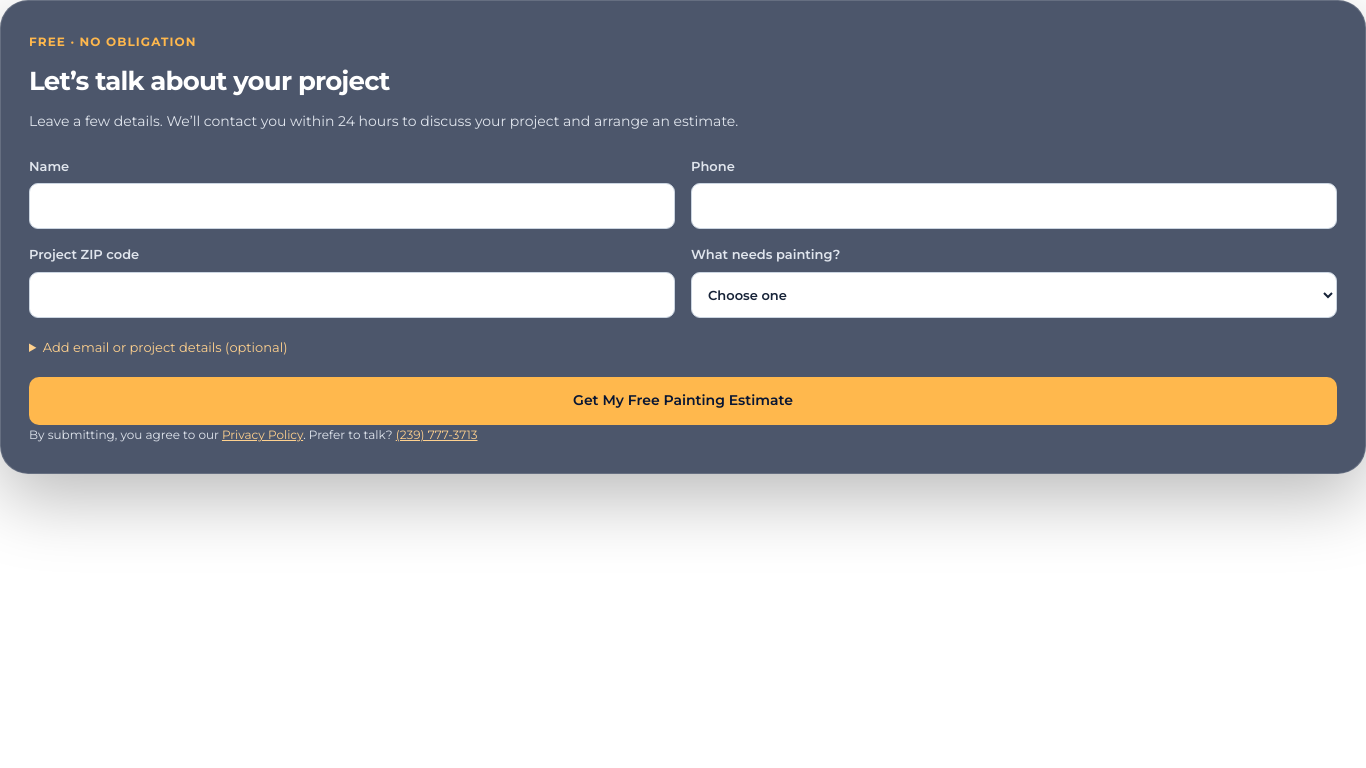
Test: retains entries on failure, displays error, and allows retry
This screenshot has width=1366, height=768.
In the field labelled "Name": (352, 206) [29,183,675,229], type "Test Customer"
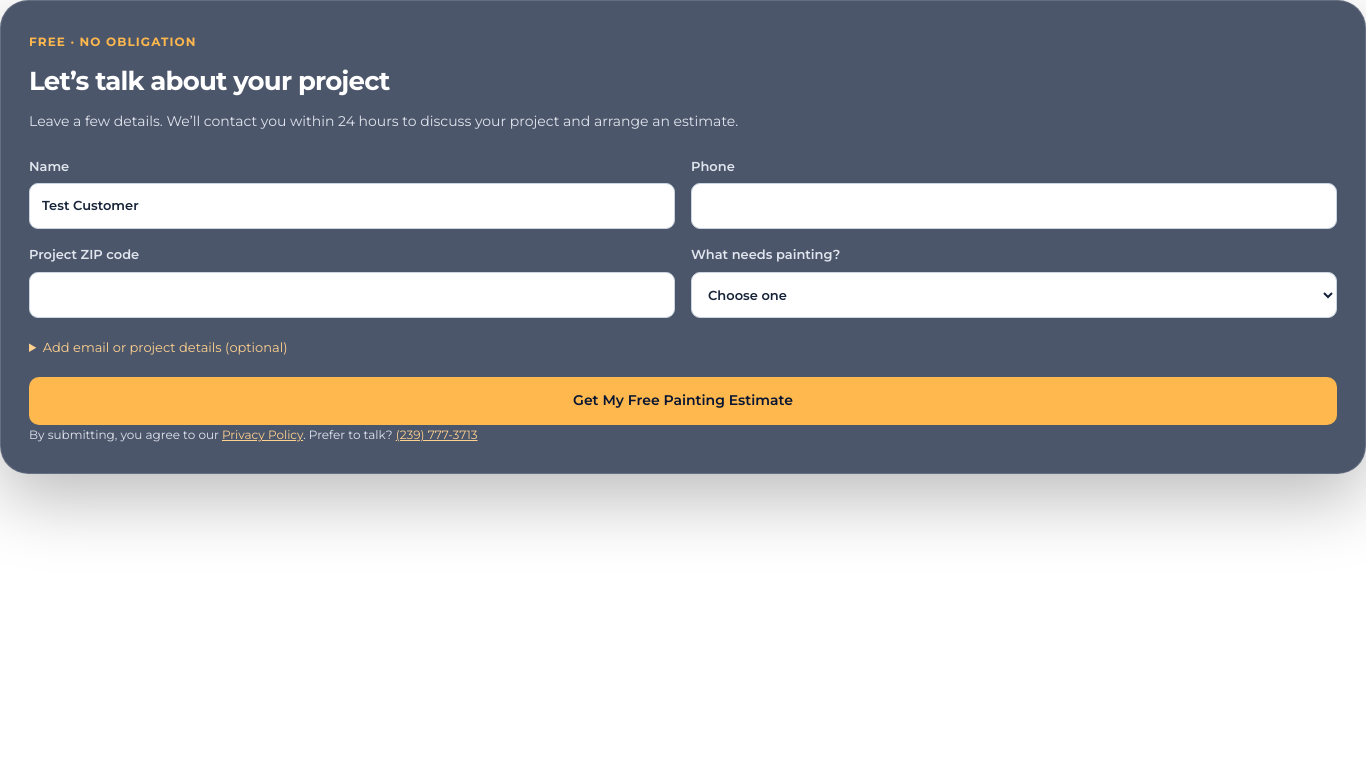
In the field labelled "Phone": (1014, 206) [691,183,1337,229], type "2395550100"
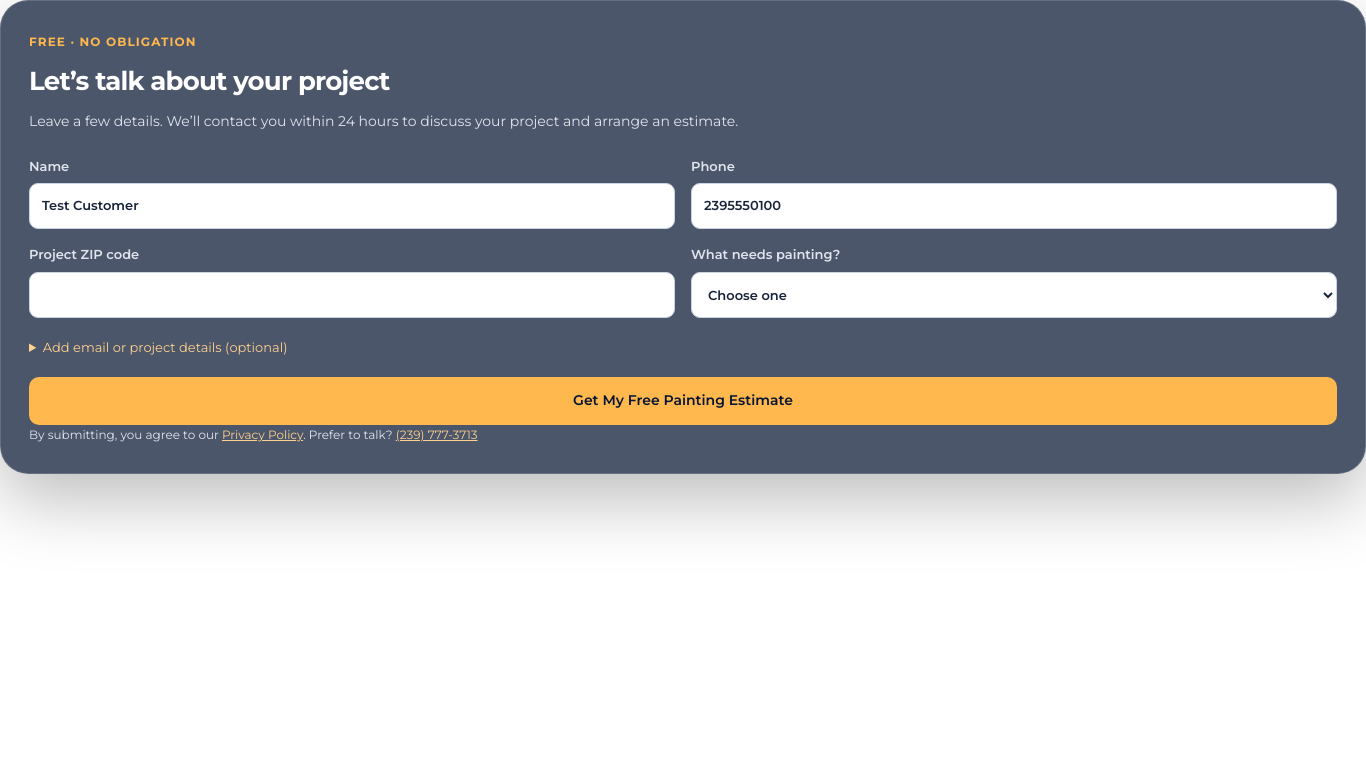
In the field labelled "Project ZIP code": (352, 295) [29,272,675,318], type "33904"
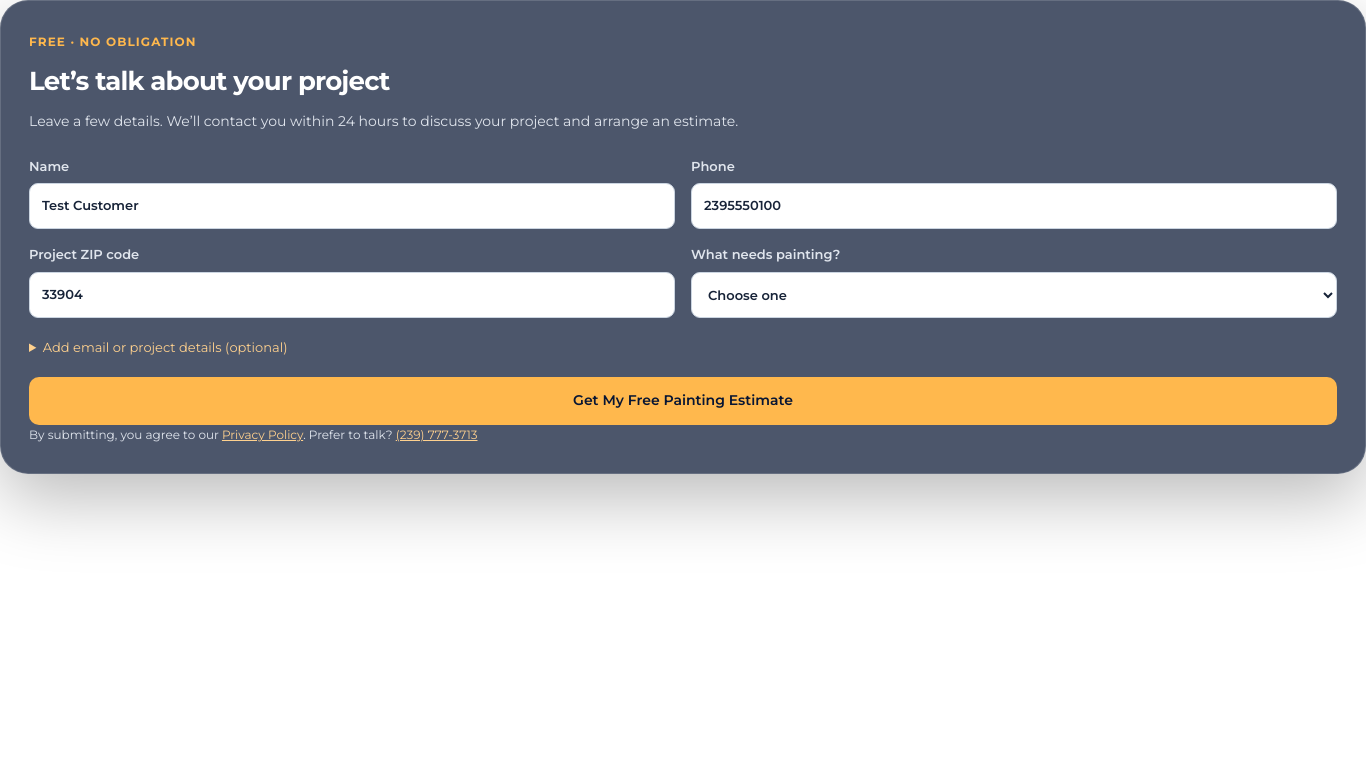
Select "Exterior" in the dropdown labelled "What needs painting?": (1014, 295) [691,272,1337,318]
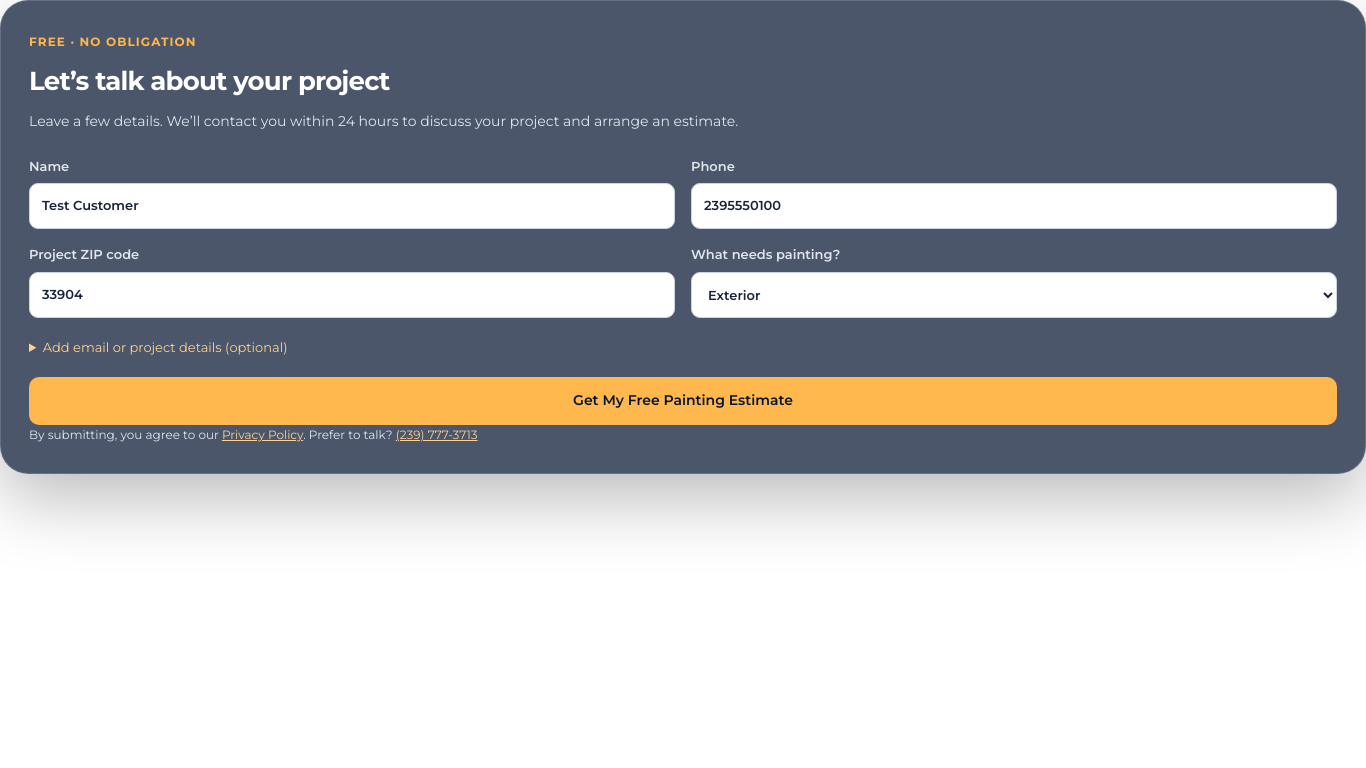
Submit the form
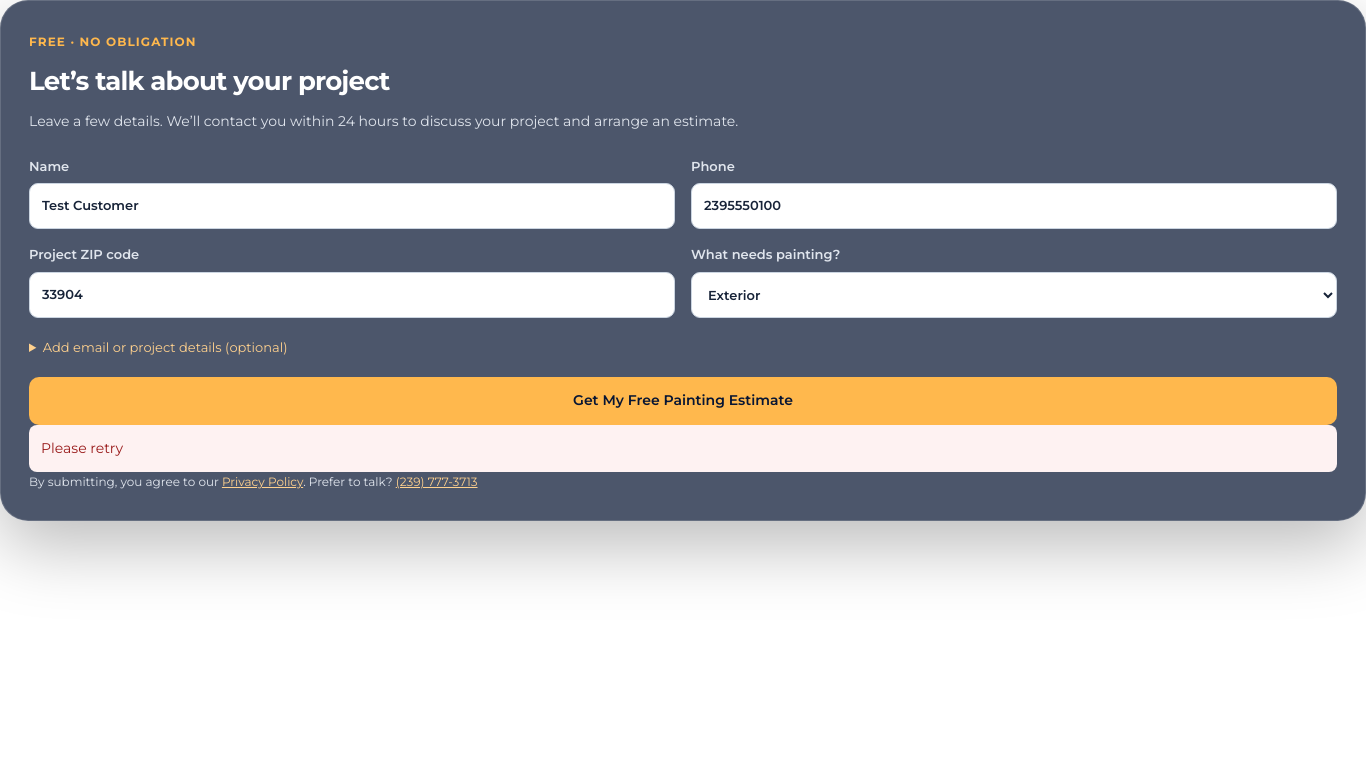
Expected: the button is enabled, [29,377,1337,425]
Now the message "Please retry" is shown, box [29,425,1337,472]
